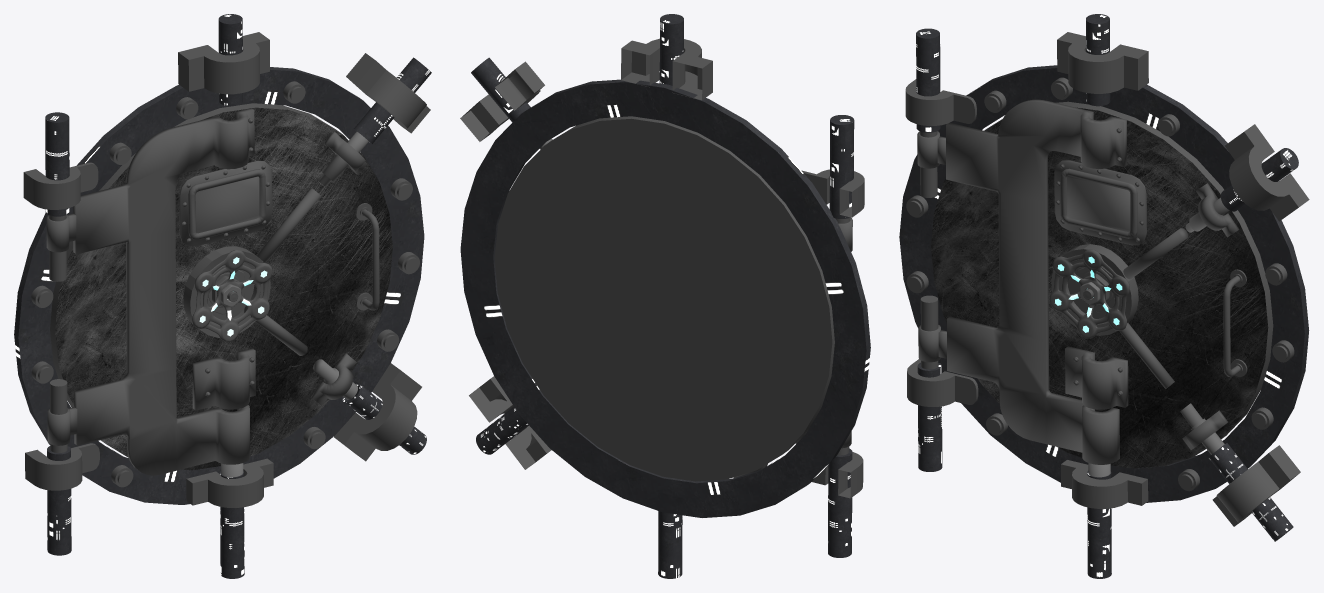
File: Door3BakedReadyOptomized.glb
3 renders of one model, left to right at view 1: azimuth 30°, elevation 25°; view 2: azimuth 150°, elevation 25°; view 3: azimuth 330°, elevation 25°, orthographic.
Visible parts, largest first — view 1: Plane.015, Cube.014, Valve, Cylinder.008, Cylinder.006; view 2: Plane.015, Cube.014; view 3: Plane.015, Cube.014, Valve, Cylinder.006.
Boxes of the visible parts, <box> form: Plane.015: <box>46,103,392,475</box>; Cube.014: <box>14,14,431,578</box>; Valve: <box>192,250,272,341</box>; Cylinder.008: <box>318,131,368,187</box>; Cylinder.006: <box>313,359,357,399</box>; Plane.015: <box>494,116,852,481</box>; Cube.014: <box>460,14,870,578</box>; Plane.015: <box>917,99,1273,468</box>; Cube.014: <box>899,14,1309,578</box>; Valve: <box>1049,249,1129,338</box>; Cylinder.006: <box>1180,403,1224,454</box>.
Bounding box in the file's own units: 3.49 × 4.56 × 0.4147.
Materials: 6 (2 with a texture image).
